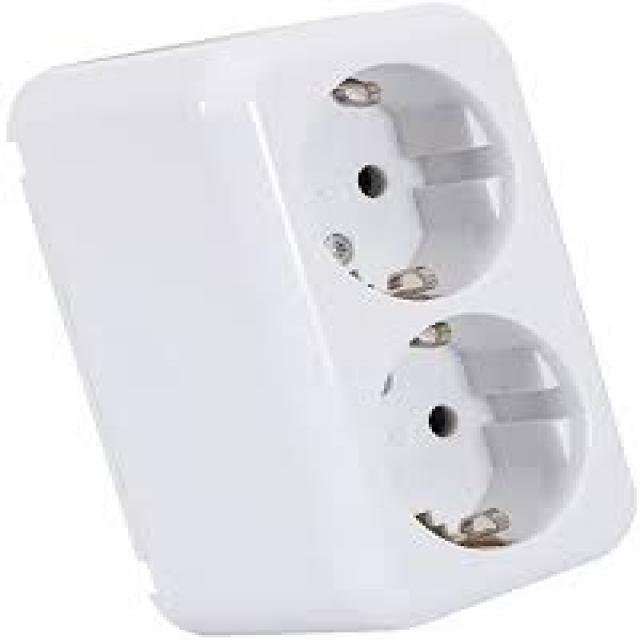typeb: (3, 8, 640, 638)
